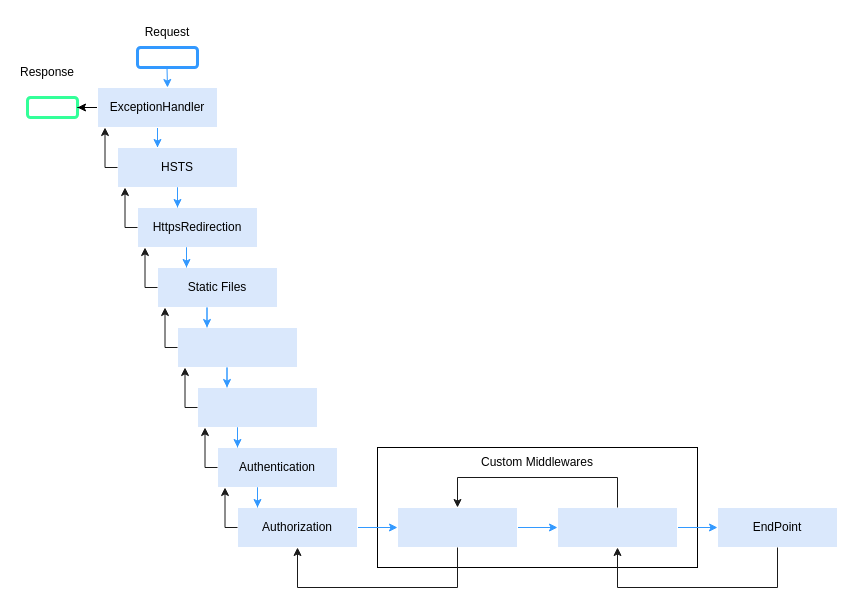
Image size: 855x613. Some labels were removed from this diagram. The centre of each missing label's shape, as x and y in pixels:
"CORS" belongs at (257,407).
"Custom1" belongs at (457,527).
"Custom2" belongs at (617,527).
"Routing" belongs at (237,347).
